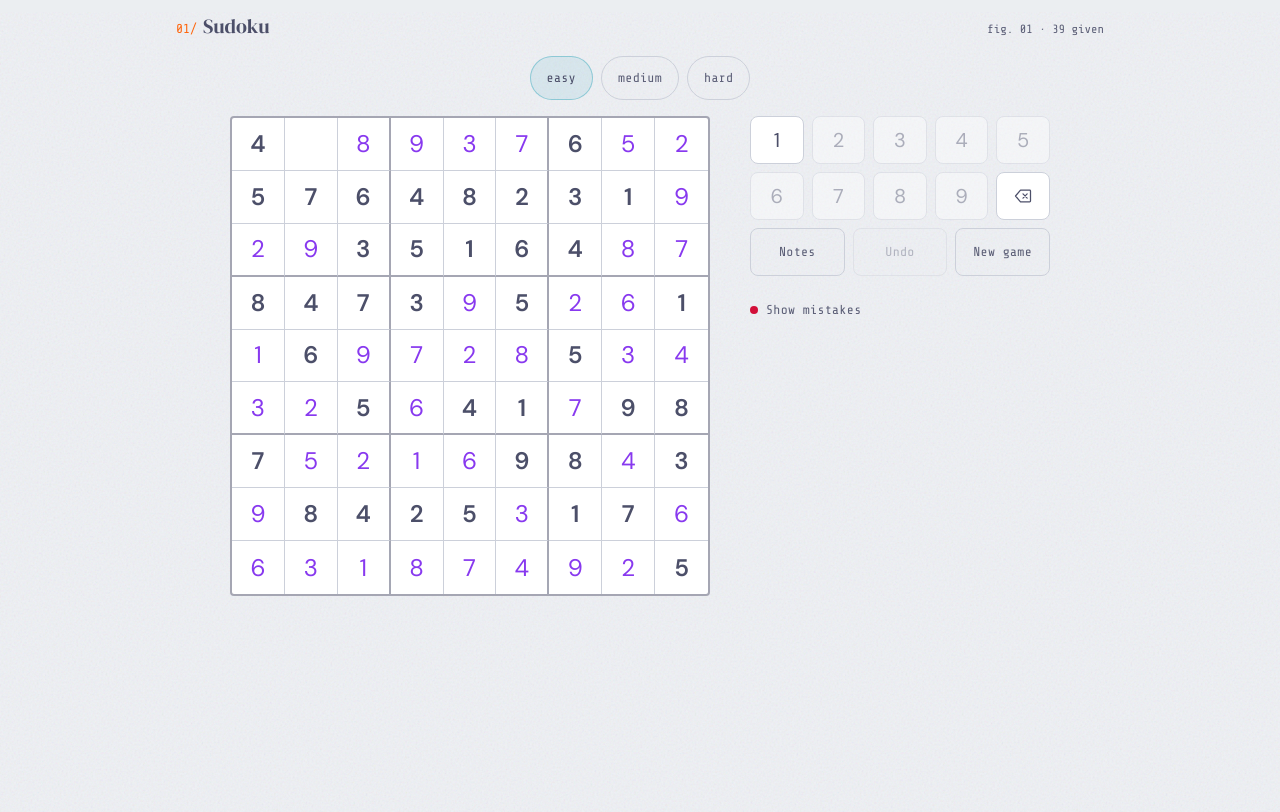
Scenario: persistence, timer, panels › solving the last cell shows the completion panel with quiet elapsed time
Step 1. Click the cell named "Row 1, column 2, empty" → [311, 144], box [285, 118, 338, 171]
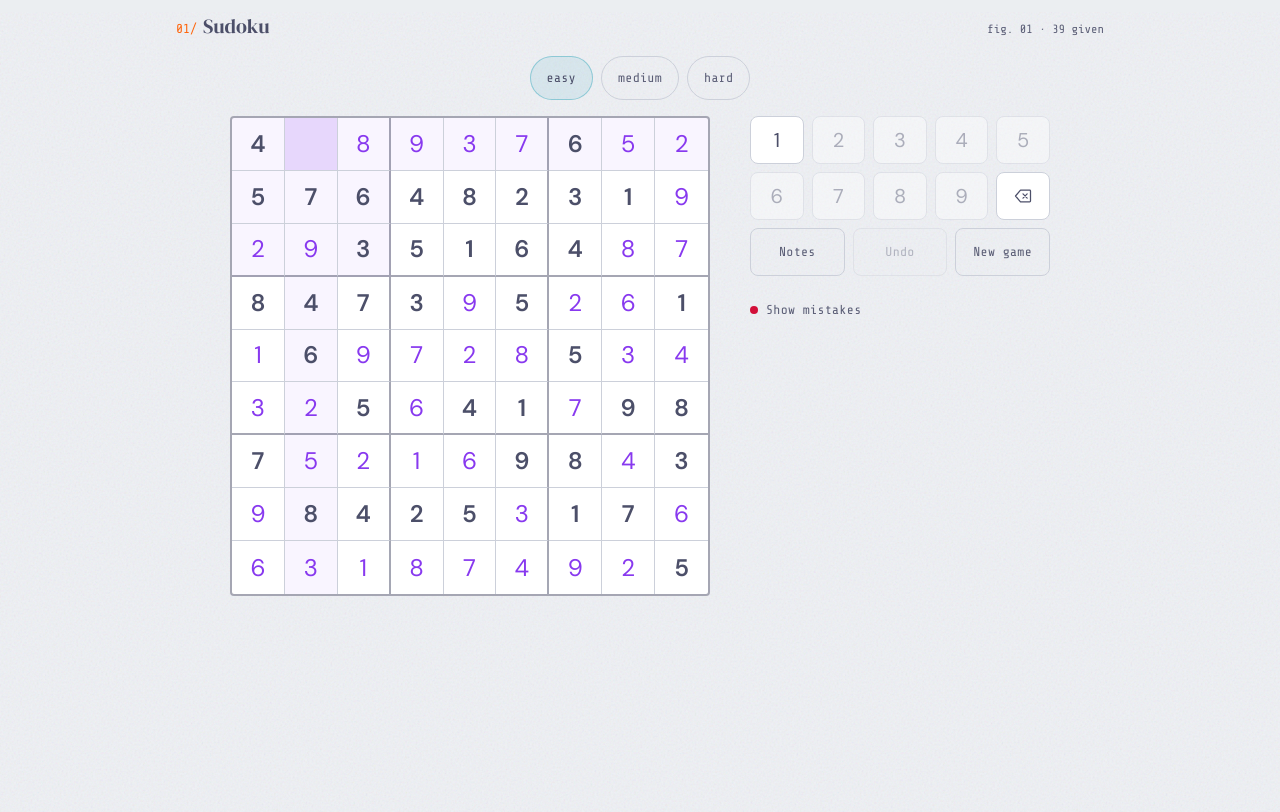
Step 2. Click the button "1" → [777, 140], box [750, 116, 804, 164]
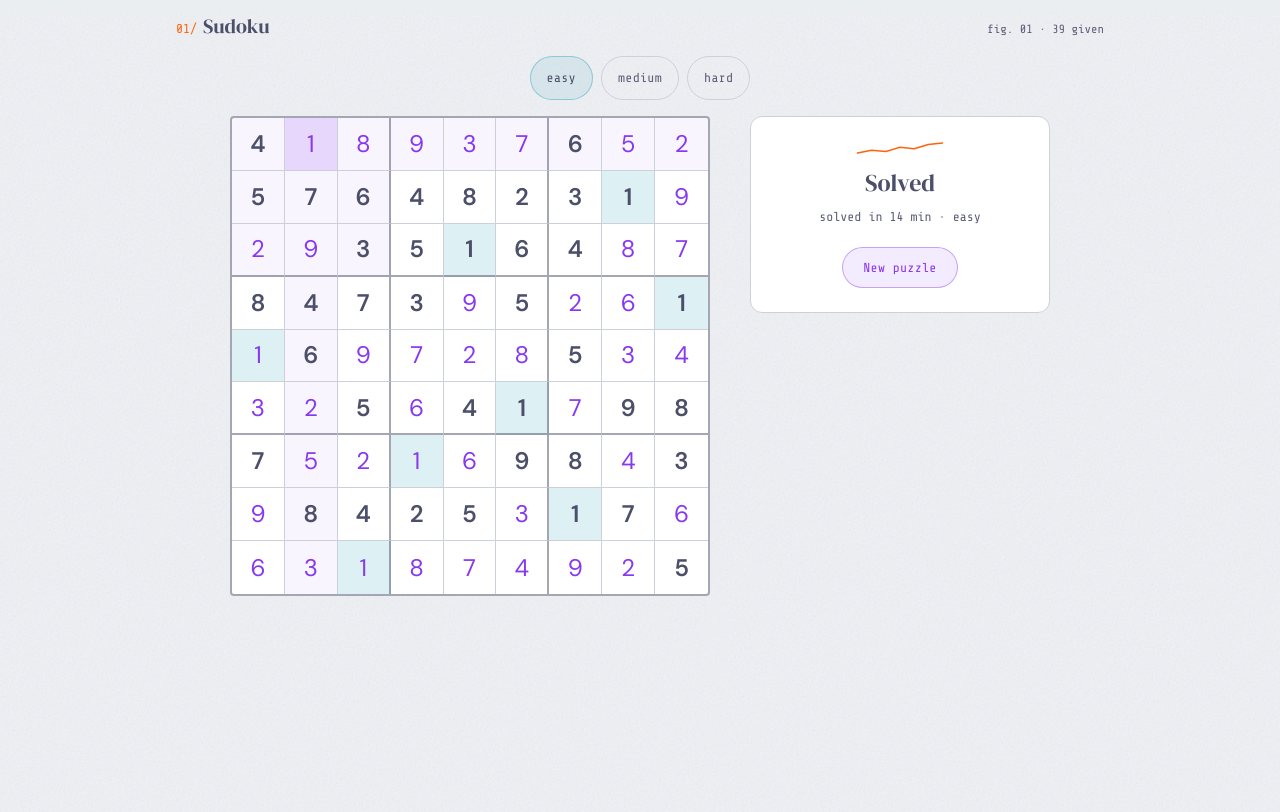
Expected: the heading "Solved" is shown, [865, 166, 935, 199]
